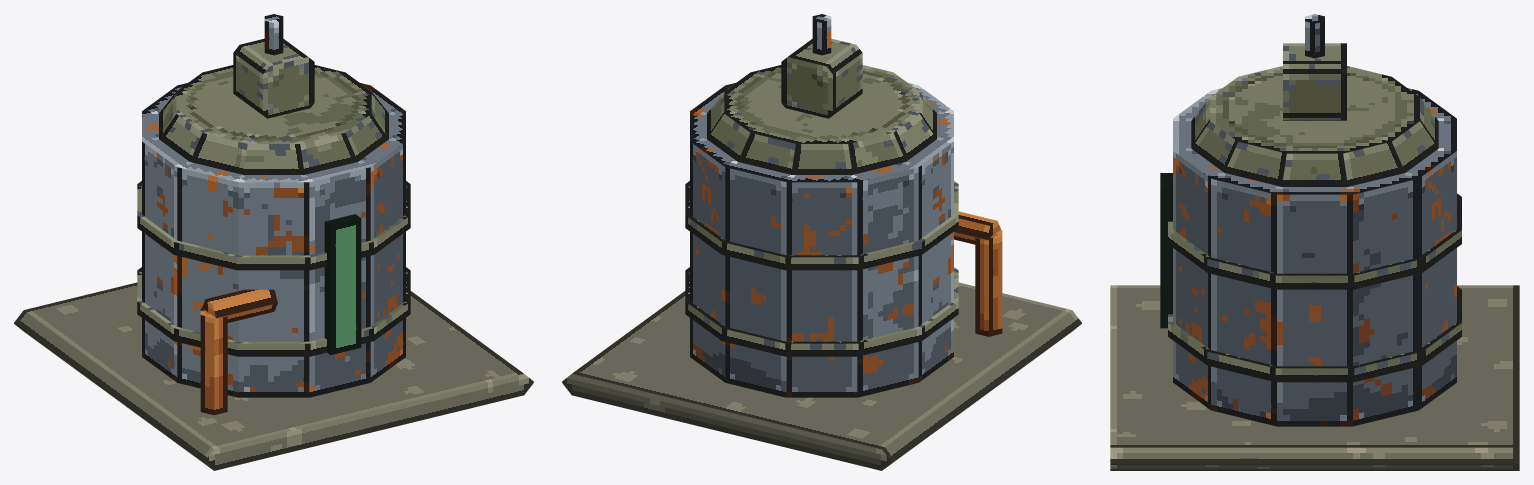
The model's file is feedvat.glb.
3 views of the same model, side by side, from view 1: azimuth 30°, elevation 25°; view 2: azimuth 150°, elevation 25°; view 3: azimuth 270°, elevation 25° (orthographic). The views are drawn at different scales.
Parts seen in each view (by area): view 1: tank, pad, lid, motor, sight, band2, band1, pipe, pipe2, shaft; view 2: tank, pad, lid, motor, band1, band2, pipe, pipe2, shaft; view 3: tank, pad, lid, band2, band1, motor, sight, shaft.
Boxes of the visible parts, <box> form: tank: <box>142,83,405,397</box>; pad: <box>14,282,533,470</box>; lid: <box>159,65,388,174</box>; motor: <box>233,38,314,118</box>; sight: <box>324,214,361,355</box>; band2: <box>137,181,410,270</box>; band1: <box>137,267,410,356</box>; pipe: <box>200,308,227,415</box>; pipe2: <box>202,289,277,322</box>; shaft: <box>264,14,283,55</box>; tank: <box>690,83,953,397</box>; pad: <box>562,282,1081,470</box>; lid: <box>707,65,936,174</box>; motor: <box>781,38,862,118</box>; band1: <box>685,267,958,356</box>; band2: <box>685,181,958,270</box>; pipe: <box>975,230,1002,336</box>; pipe2: <box>954,211,1000,244</box>; shaft: <box>812,14,831,55</box>; tank: <box>1173,88,1456,426</box>; pad: <box>1110,285,1519,470</box>; lid: <box>1191,66,1438,186</box>; band2: <box>1168,193,1461,289</box>; band1: <box>1168,286,1461,382</box>; motor: <box>1283,43,1346,120</box>; sight: <box>1160,173,1172,328</box>; shaft: <box>1305,14,1324,58</box>.
Size of the model in its own units: 32 by 32 by 32.
Materials: 1 (1 with a texture image).
